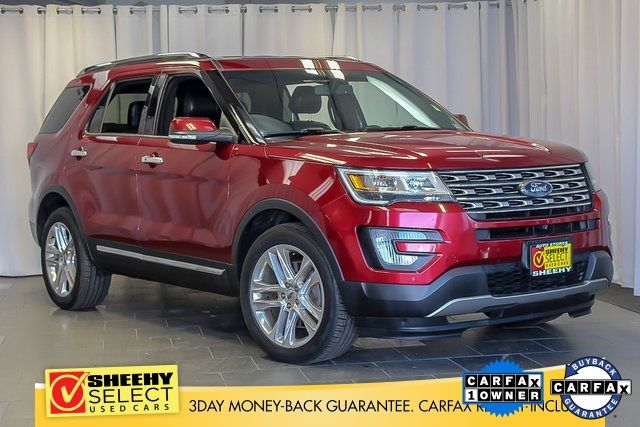Ford Explorer: (25, 49, 616, 367)
